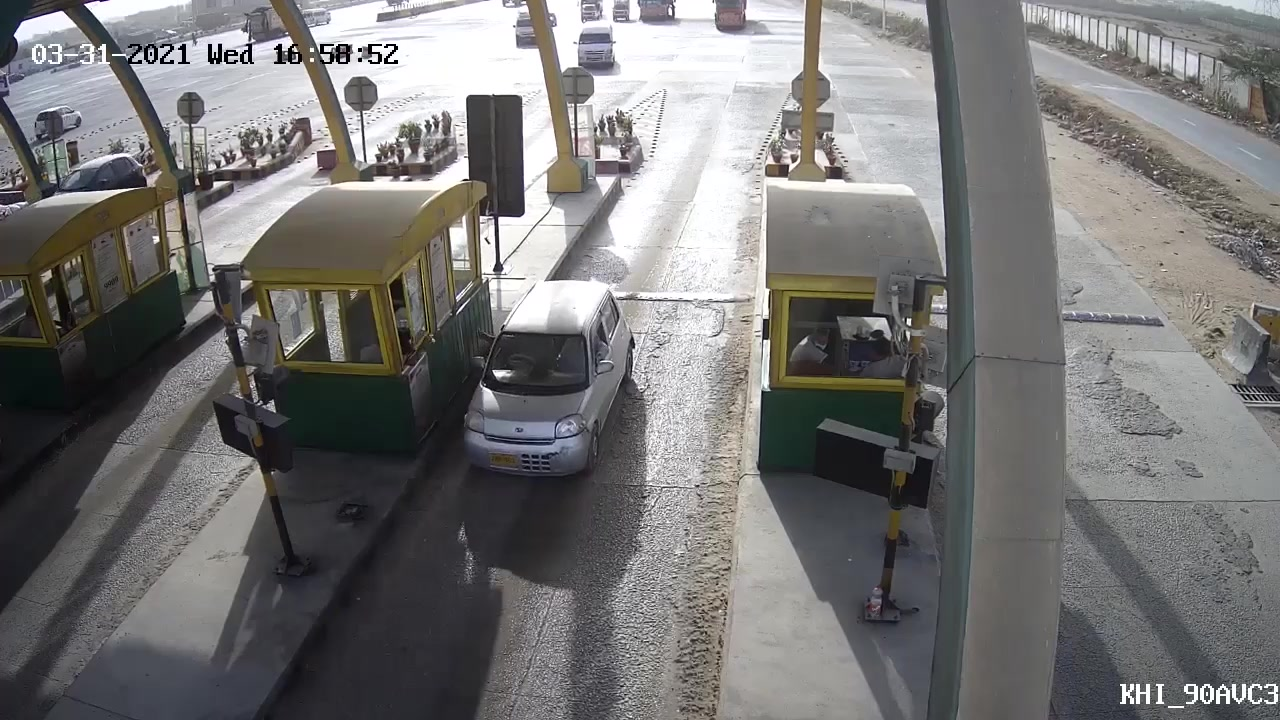F1: (459, 266, 647, 503)
